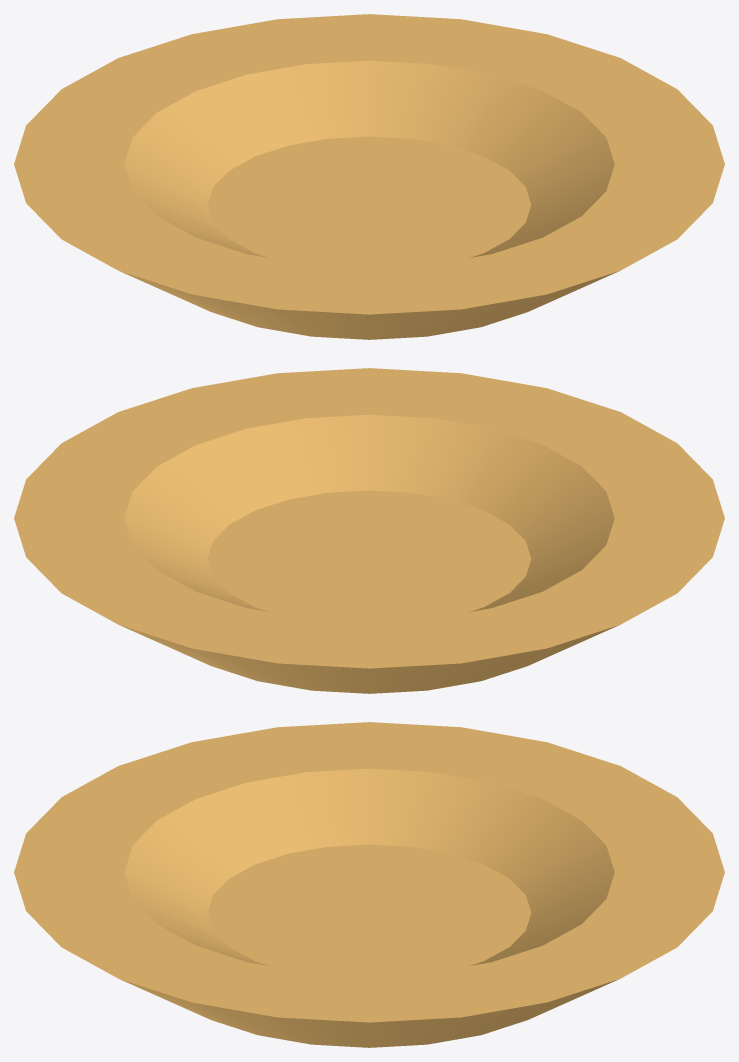
File: detailPlate.fbx
3 renders of one model, top to bottom at view 1: azimuth 30°, elevation 25°; view 2: azimuth 150°, elevation 25°; view 3: azimuth 270°, elevation 25°, orthographic.
Parts seen in each view (by area): view 1: detailPlate; view 2: detailPlate; view 3: detailPlate.
Boxes of the visible parts, left/top/right/bottom form: detailPlate: left=14, top=14, right=724, bottom=339; detailPlate: left=14, top=368, right=724, bottom=693; detailPlate: left=14, top=722, right=724, bottom=1047.
Size of the model in its own units: 2.54 by 0.3189 by 2.54.
